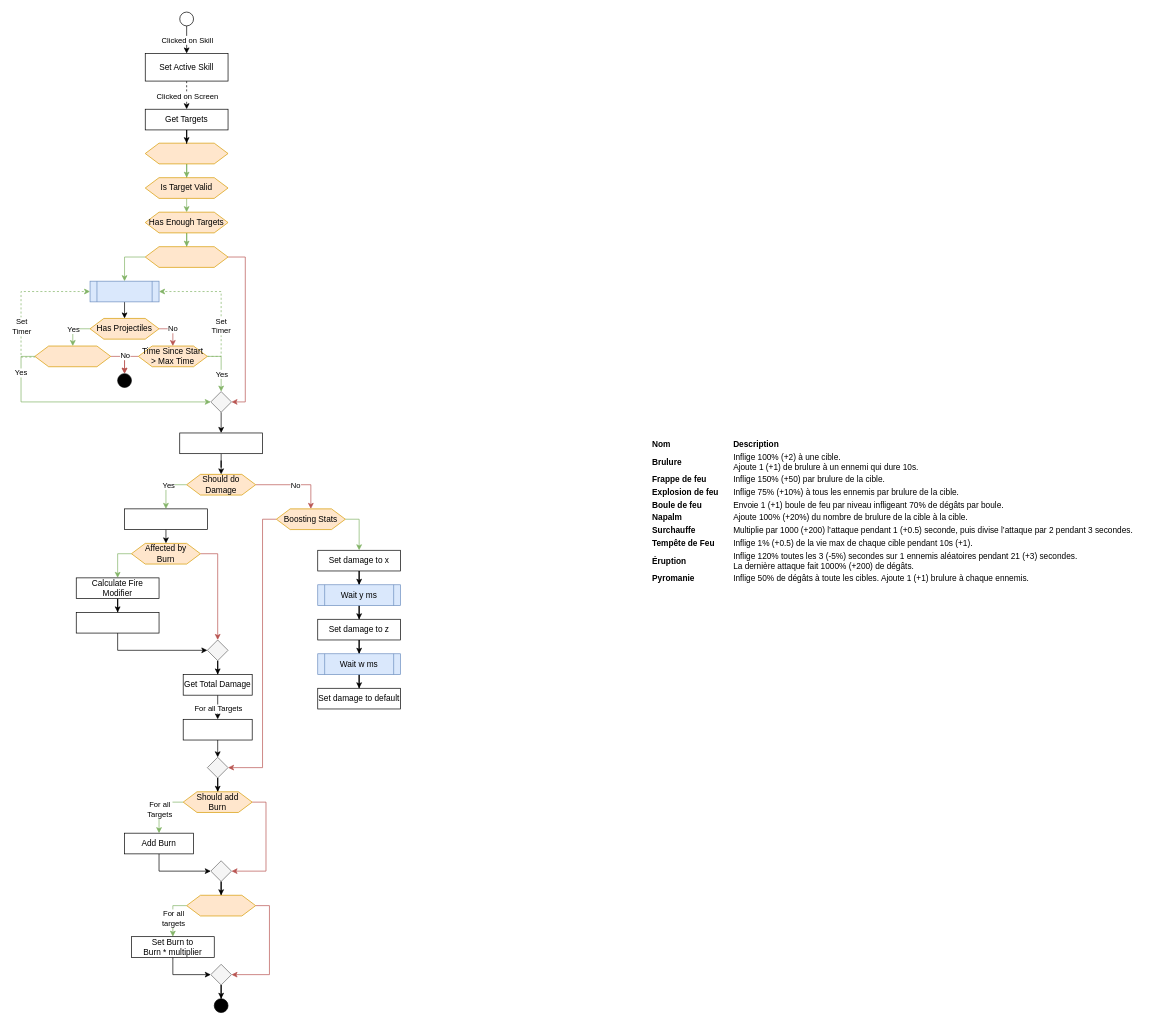
This 1151x1025 diagram has some shape labels left out. The box of each missing label's shape, as (x1, y1, x2, y2) in pixels:
Calculate Base Damage: (124, 508, 207, 530)
Consume Burn Stack: (76, 612, 159, 633)
Do Damage: (183, 719, 252, 740)
Is Cooldown Ready: (145, 142, 228, 164)
Is Repeated: (145, 246, 228, 267)
Multiply Burn: (186, 895, 256, 916)
Play Visuals / SFX: (179, 432, 263, 454)
Remaining Projectiles > 0: (34, 345, 111, 367)
Wait x ms: (89, 280, 159, 302)
